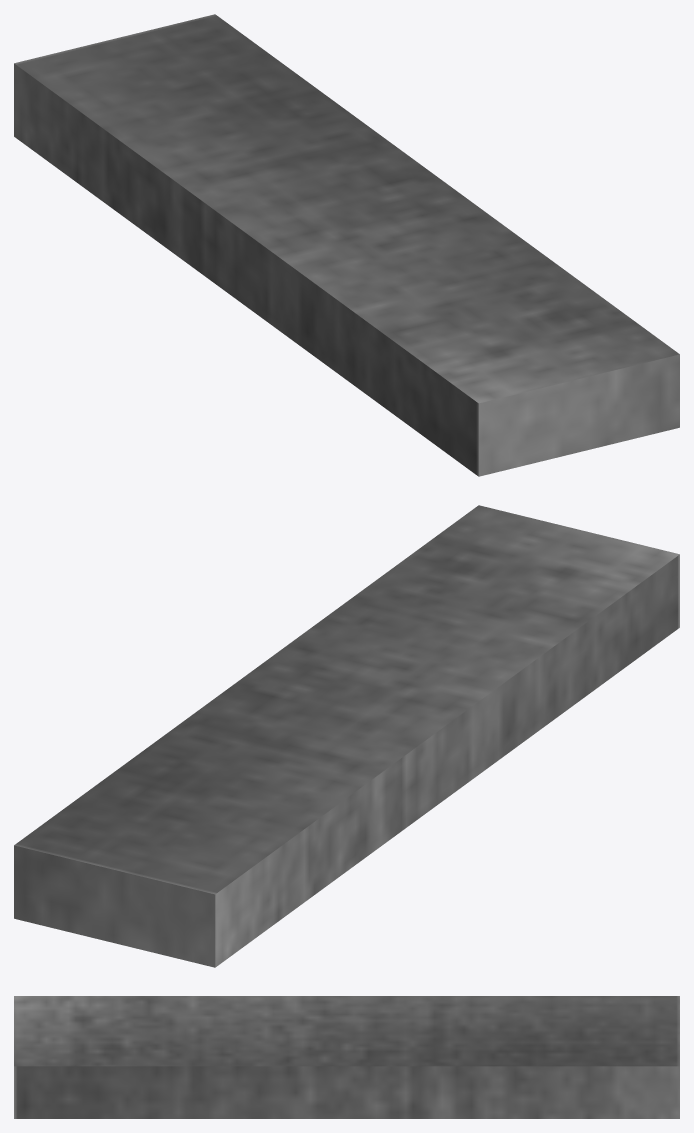
The model's file is GRID-light.fbx.
3 renders of one model, top to bottom at view 1: azimuth 30°, elevation 25°; view 2: azimuth 150°, elevation 25°; view 3: azimuth 270°, elevation 25°, orthographic. The views are drawn at different scales.
Visible parts, largest first — view 1: Cube; view 2: Cube; view 3: Cube.
Part boxes in pixels (left/top/right/bottom): Cube: left=14, top=14, right=679, bottom=476; Cube: left=14, top=505, right=679, bottom=967; Cube: left=14, top=996, right=679, bottom=1118.
Size of the model in its own units: 200 by 69.61 by 800.
1 material, 1 textured.
